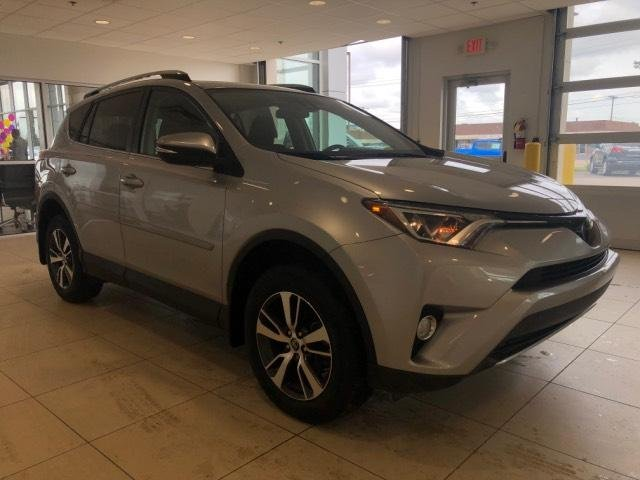Toyota RAV-4: (34, 69, 620, 426)
